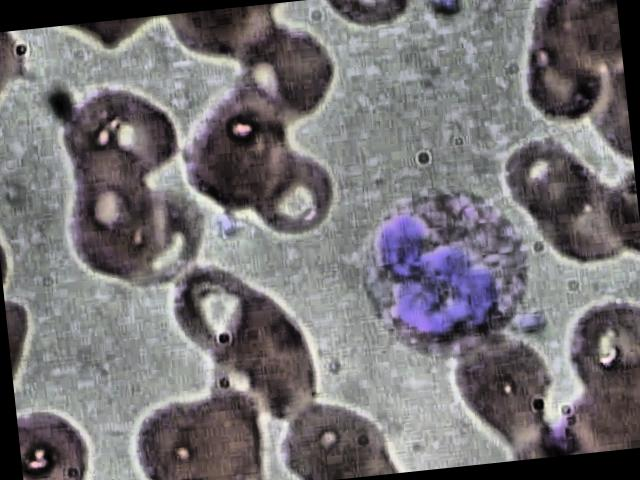Platelets: (203, 207, 246, 242), (510, 306, 552, 341), (426, 0, 468, 17)
RBC: (44, 73, 192, 191), (52, 159, 172, 290), (225, 18, 352, 134), (117, 382, 259, 480), (501, 132, 623, 235), (160, 255, 274, 365), (515, 0, 614, 124), (521, 164, 640, 267), (267, 383, 393, 480), (238, 139, 350, 241), (181, 84, 293, 186), (15, 383, 109, 480)
WBC: (354, 172, 545, 367)
